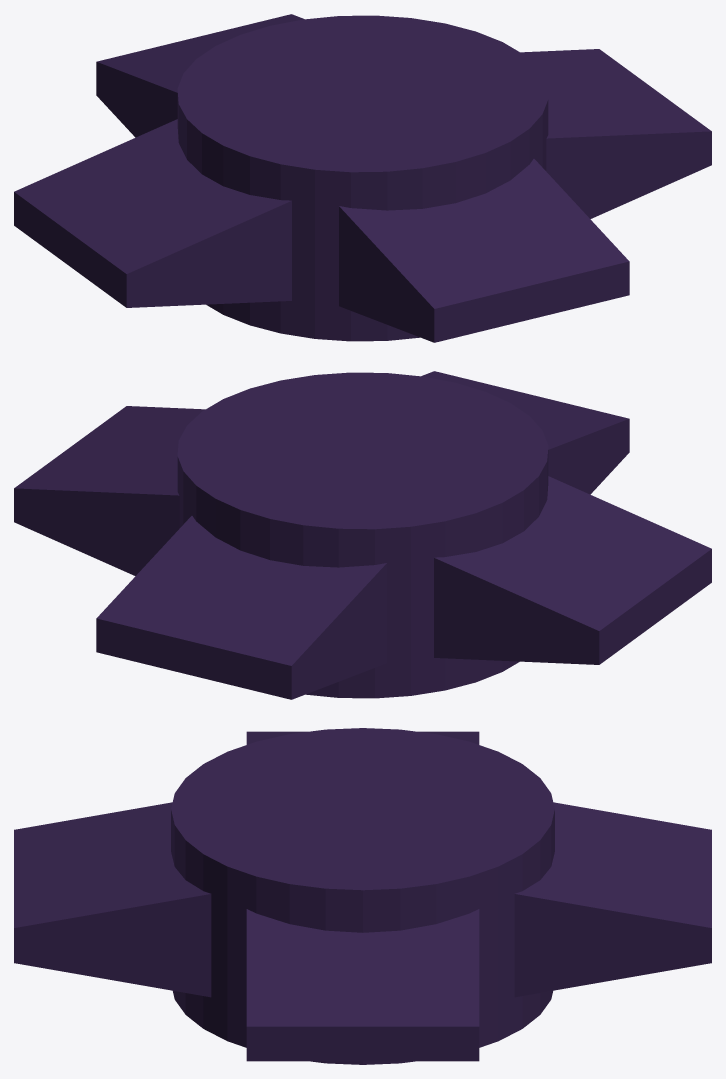
Rendered from tower_base_2.fbx.
The picture shows the model from 3 angles, top to bottom: view 1: azimuth 30°, elevation 25°; view 2: azimuth 150°, elevation 25°; view 3: azimuth 270°, elevation 25°; orthographic projection. The views are drawn at different scales.
Visible parts, largest first — view 1: tower_base; view 2: tower_base; view 3: tower_base.
Boxes of the visible parts, x1=… form: tower_base: x1=14, y1=14, x2=711, y2=342; tower_base: x1=14, y1=371, x2=711, y2=699; tower_base: x1=14, y1=728, x2=711, y2=1064.
Size of the model in its own units: 600 by 166 by 600.
